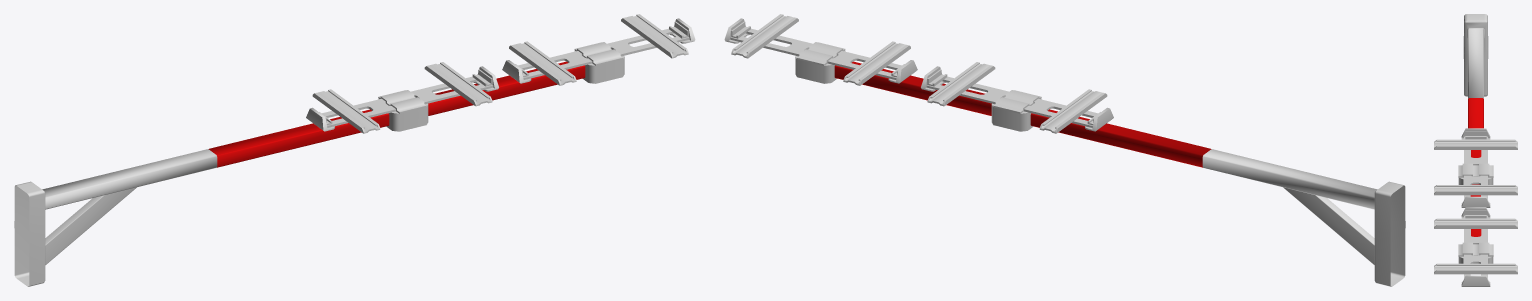
File: WallConveyor-23.fbx
The picture shows the model from 3 angles, left to right: view 1: azimuth 30°, elevation 25°; view 2: azimuth 150°, elevation 25°; view 3: azimuth 270°, elevation 25°; orthographic projection. The views are drawn at different scales.
Visible parts, largest first — view 1: SM_CPWall-23_Pole, SM_CPWall-23, SM_CPWall-23_Strut_long, SM_CPWall-23_Strut_base; view 2: SM_CPWall-23_Pole, SM_CPWall-23, SM_CPWall-23_Strut_long, SM_CPWall-23_Strut_base; view 3: SM_CPWall-23_Pole, SM_CPWall-23_Strut_base, SM_CPWall-23, SM_CPWall-23_Strut_long.
Part boxes in pixels (x1=…): SM_CPWall-23_Pole: x1=306, y1=14, x2=695, y2=133; SM_CPWall-23: x1=14, y1=181, x2=136, y2=286; SM_CPWall-23_Strut_long: x1=208, y1=61, x2=585, y2=167; SM_CPWall-23_Strut_base: x1=42, y1=149, x2=217, y2=209; SM_CPWall-23_Pole: x1=724, y1=14, x2=1113, y2=133; SM_CPWall-23: x1=1283, y1=181, x2=1405, y2=286; SM_CPWall-23_Strut_long: x1=834, y1=61, x2=1211, y2=167; SM_CPWall-23_Strut_base: x1=1202, y1=149, x2=1377, y2=209; SM_CPWall-23_Pole: x1=1434, y1=128, x2=1517, y2=286; SM_CPWall-23_Strut_base: x1=1468, y1=28, x2=1483, y2=98; SM_CPWall-23: x1=1463, y1=14, x2=1488, y2=96; SM_CPWall-23_Strut_long: x1=1468, y1=98, x2=1483, y2=236.
Bounding box in the file's own units: 677 × 95.2 × 89.92.
